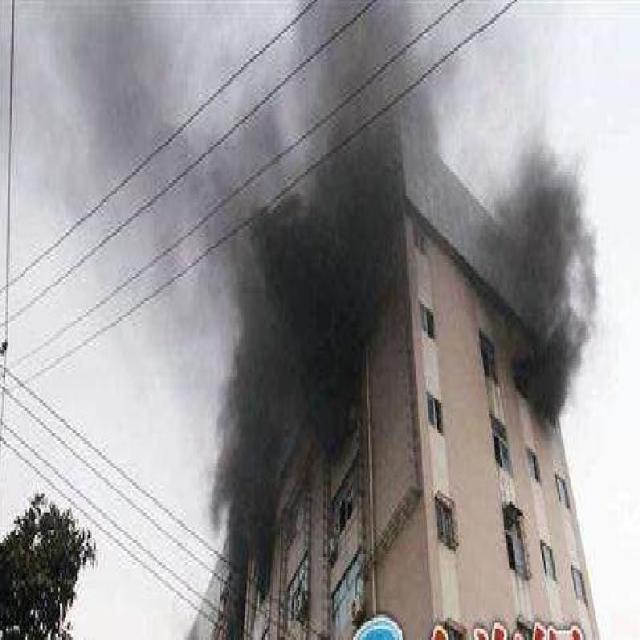Smoke: (71, 1, 453, 640), (478, 124, 598, 430)
